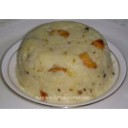venpongal: (21, 23, 115, 98)
